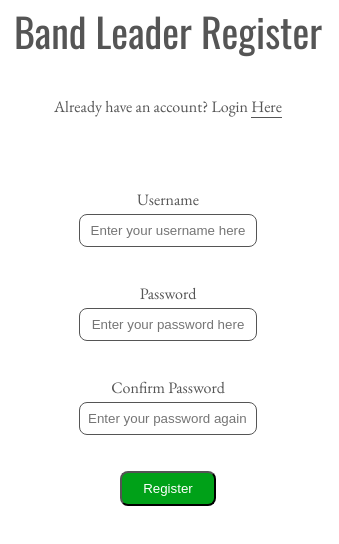
<BandleaderRegisterPage/> › Unsucessfully register user › User already is registered - error message displays
The image size is (339, 544).
Type "testuser" into the field with test id "UsernameTextInput" at (168, 230), box [79,214,257,247]
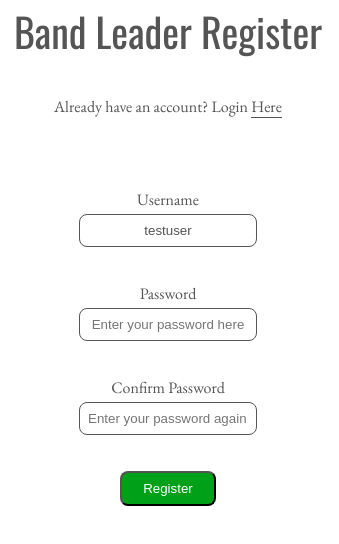
Type "testpassword" into the password field with test id "PasswordTextInput" at (168, 324), box [79,308,257,341]
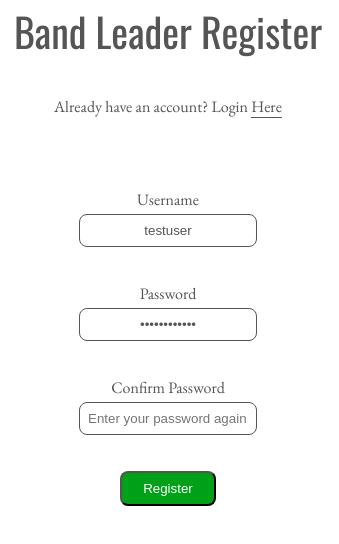
Type "testpassword" into the password field with test id "Confirm PasswordTextInput" at (168, 418), box [79,402,257,435]
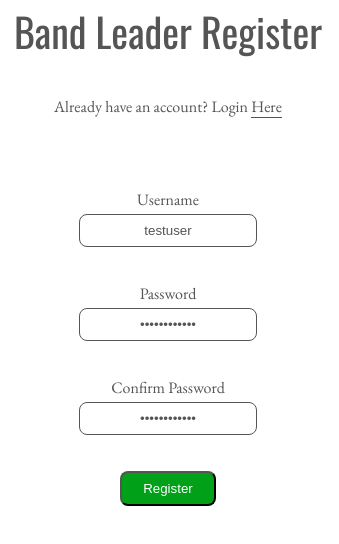
Click the button with test id "RegisterButton" at (168, 488), box [120,471,216,506]
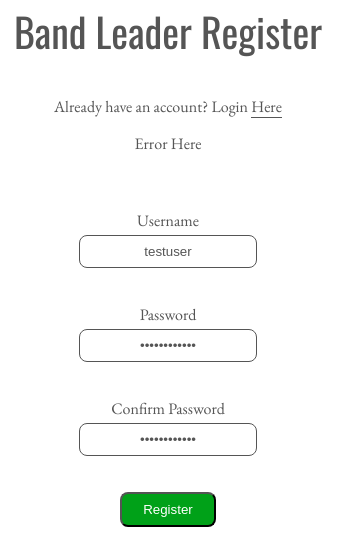
Check: the text "Error Here" is shown, box [134,133,202,154]
